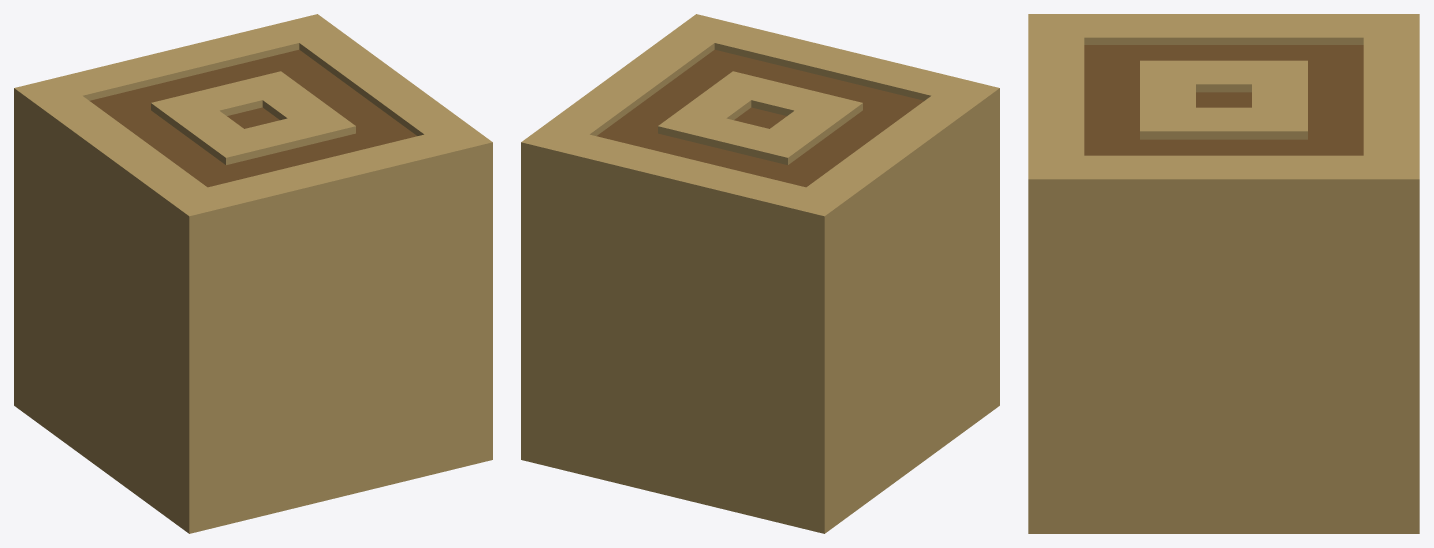
The picture shows the model from 3 angles, left to right: view 1: azimuth 30°, elevation 25°; view 2: azimuth 150°, elevation 25°; view 3: azimuth 270°, elevation 25°; orthographic projection. The views are drawn at different scales.
Parts seen in each view (by area): view 1: pCube41, pCube42; view 2: pCube41, pCube42; view 3: pCube41, pCube42.
Boxes of the visible parts, x1,y1,x2,y2 form: pCube41: [14, 14, 492, 533]; pCube42: [90, 49, 417, 187]; pCube41: [521, 14, 999, 533]; pCube42: [596, 49, 923, 187]; pCube41: [1028, 14, 1419, 533]; pCube42: [1084, 45, 1363, 155].
Bounding box in the file's own units: 1 × 1 × 1.
